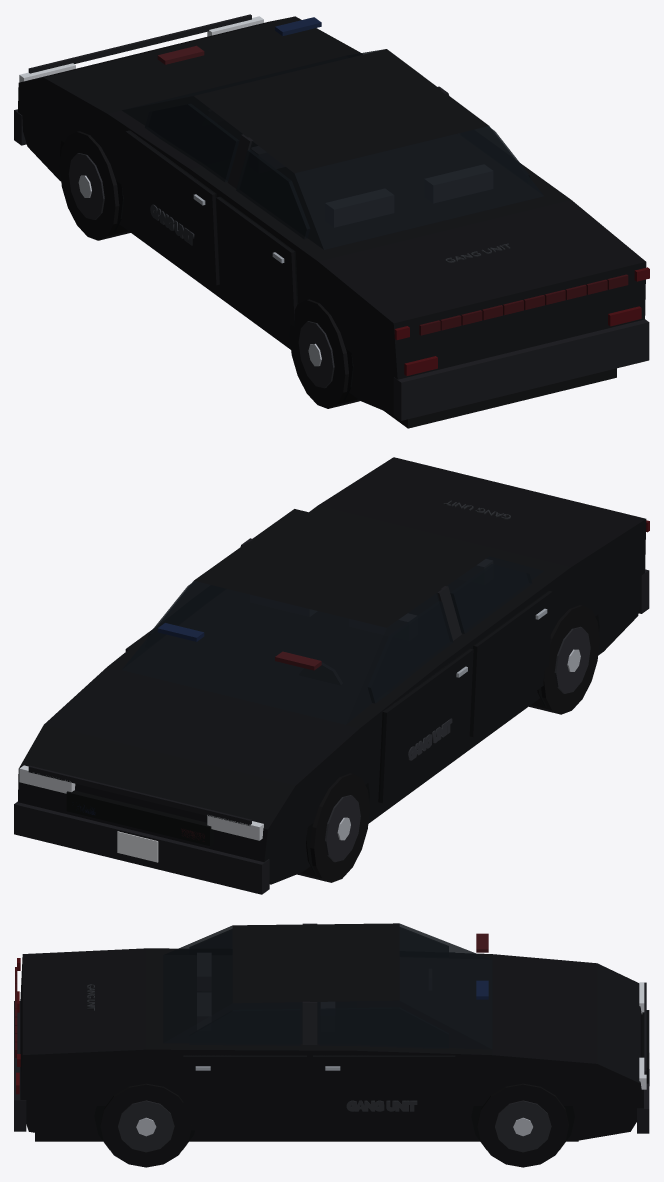
File: patrol_sedan_unmarked.glb
The picture shows the model from 3 angles, top to bottom: view 1: azimuth 30°, elevation 25°; view 2: azimuth 150°, elevation 25°; view 3: azimuth 270°, elevation 25°; orthographic projection. The views are drawn at different scales.
Visible parts, largest first — view 1: Body, Door_FL, Door_RL, Wheel_FL, Wheel_RL, Interior, Decal_Unit_FL; view 2: Body, Door_FL, Door_RL, Wheel_FL, Wheel_RL, Interior, Plate_Front, Headlight_L, Headlight_R; view 3: Body, Door_FR, Door_RR, Wheel_FR, Wheel_RR, Interior, Decal_Unit_FR.
Part boxes in pixels (bbox=[...]): Body: bbox=[14, 14, 649, 428]; Door_FL: bbox=[125, 103, 239, 285]; Door_RL: bbox=[216, 149, 310, 338]; Wheel_FL: bbox=[59, 131, 130, 240]; Wheel_RL: bbox=[289, 299, 359, 408]; Interior: bbox=[205, 109, 492, 227]; Decal_Unit_FL: bbox=[150, 204, 194, 245]; Body: bbox=[14, 457, 649, 894]; Door_FL: bbox=[367, 601, 473, 803]; Door_RL: bbox=[450, 564, 552, 736]; Wheel_FL: bbox=[297, 773, 369, 882]; Wheel_RL: bbox=[529, 605, 599, 714]; Interior: bbox=[250, 559, 492, 685]; Plate_Front: bbox=[117, 831, 158, 862]; Headlight_L: bbox=[207, 815, 263, 840]; Headlight_R: bbox=[19, 765, 75, 793]; Body: bbox=[14, 923, 649, 1149]; Door_FR: bbox=[313, 1007, 455, 1130]; Door_RR: bbox=[183, 1009, 306, 1130]; Wheel_FR: bbox=[477, 1083, 568, 1167]; Wheel_RR: bbox=[100, 1083, 191, 1167]; Interior: bbox=[197, 953, 431, 1029]; Decal_Unit_FR: bbox=[346, 1100, 417, 1111].
Bounding box in the file's own units: 2.03 × 1.38 × 5.15.
